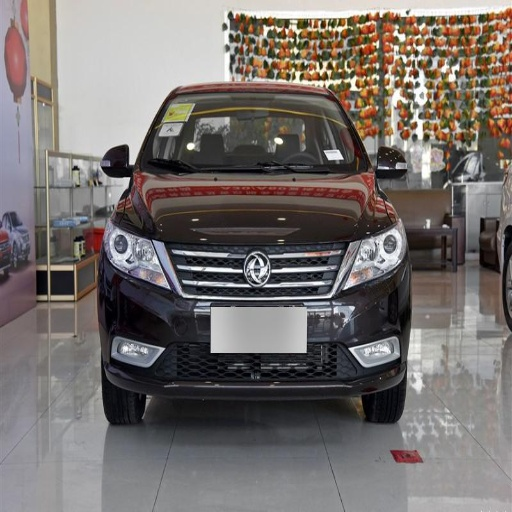front_bumper: (103, 239, 405, 398)
front_right_light: (105, 207, 167, 287)
hood: (126, 171, 388, 256)
